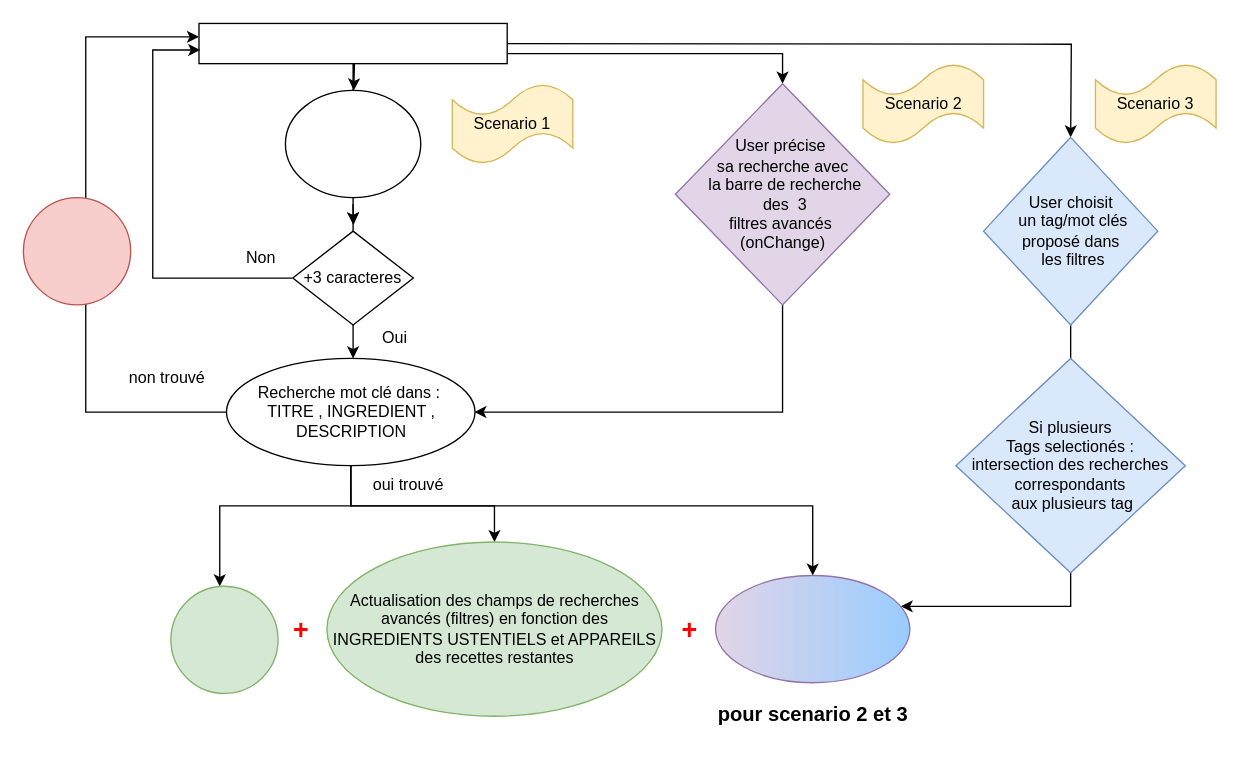
Some shapes in this 1240 by 757 pixel diagram are drawn without their labels. The centre of each missing label's shape, as x and y in pixels:
"Affichage aucune recette..." belongs at pixel 76 250.
"affichage de toutes les recettes" belongs at pixel 352 143.
"Affichage Recettes trouvés" belongs at pixel 224 639.
"Diagramme moteur de recherche" belongs at pixel 352 43.
"Mot clé apparait en TAG en dessous des filtres" belongs at pixel 812 628.
